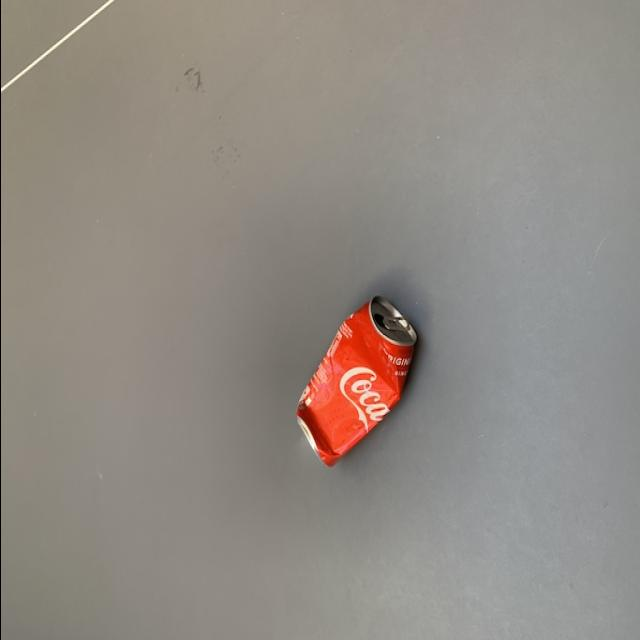Aluminum Can: (288, 294, 424, 470)
